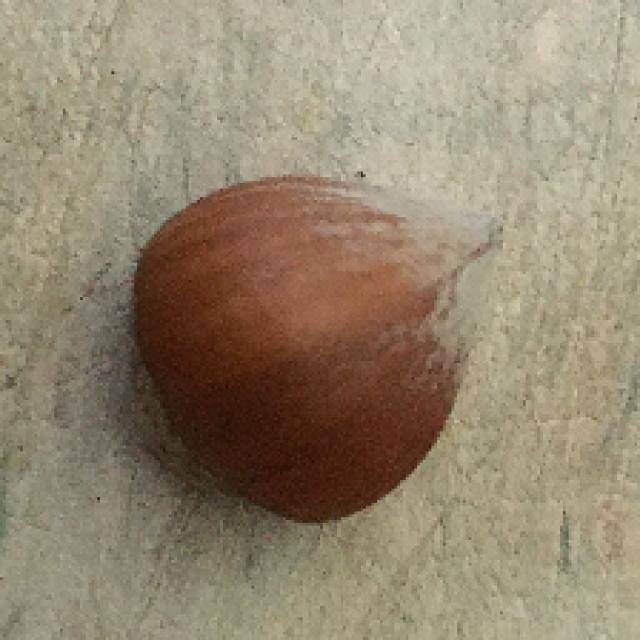qualityHazelnut: (127, 176, 512, 520)
